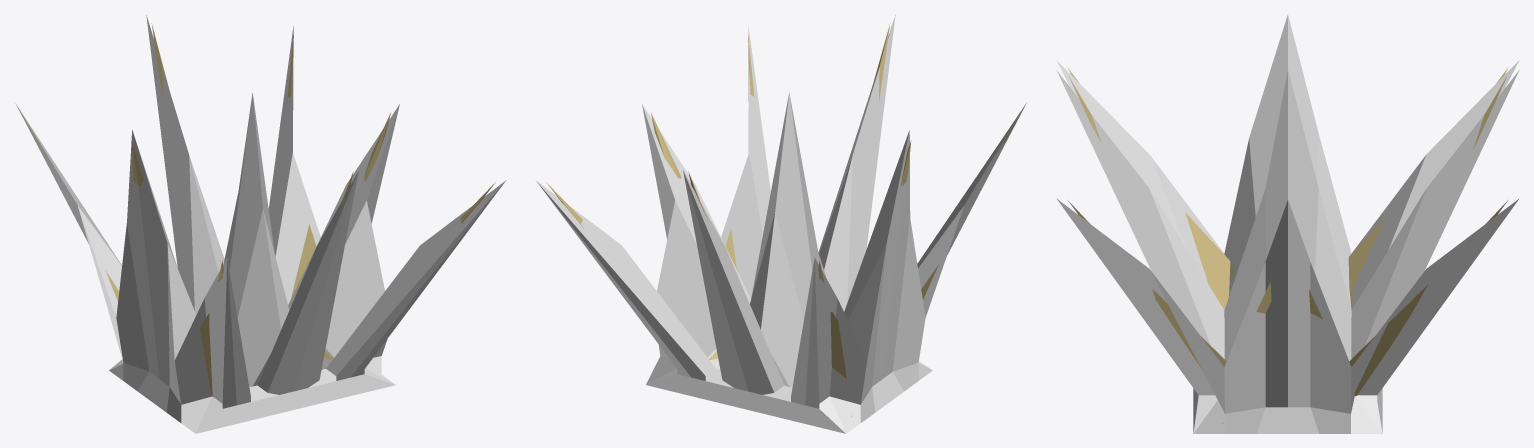
Rendered from resource__grass__grass-mid.fbx.
The picture shows the model from 3 angles, left to right: view 1: azimuth 30°, elevation 25°; view 2: azimuth 150°, elevation 25°; view 3: azimuth 270°, elevation 25°; orthographic projection. The views are drawn at different scales.
Visible parts, largest first — view 1: Grass_Mid; view 2: Grass_Mid; view 3: Grass_Mid.
Boxes of the visible parts, left/top/right/bottom form: Grass_Mid: left=15, top=15, right=505, bottom=433; Grass_Mid: left=536, top=15, right=1026, bottom=433; Grass_Mid: left=1056, top=15, right=1519, bottom=433.
Bounding box in the file's own units: 53.64 × 52.46 × 70.8.
